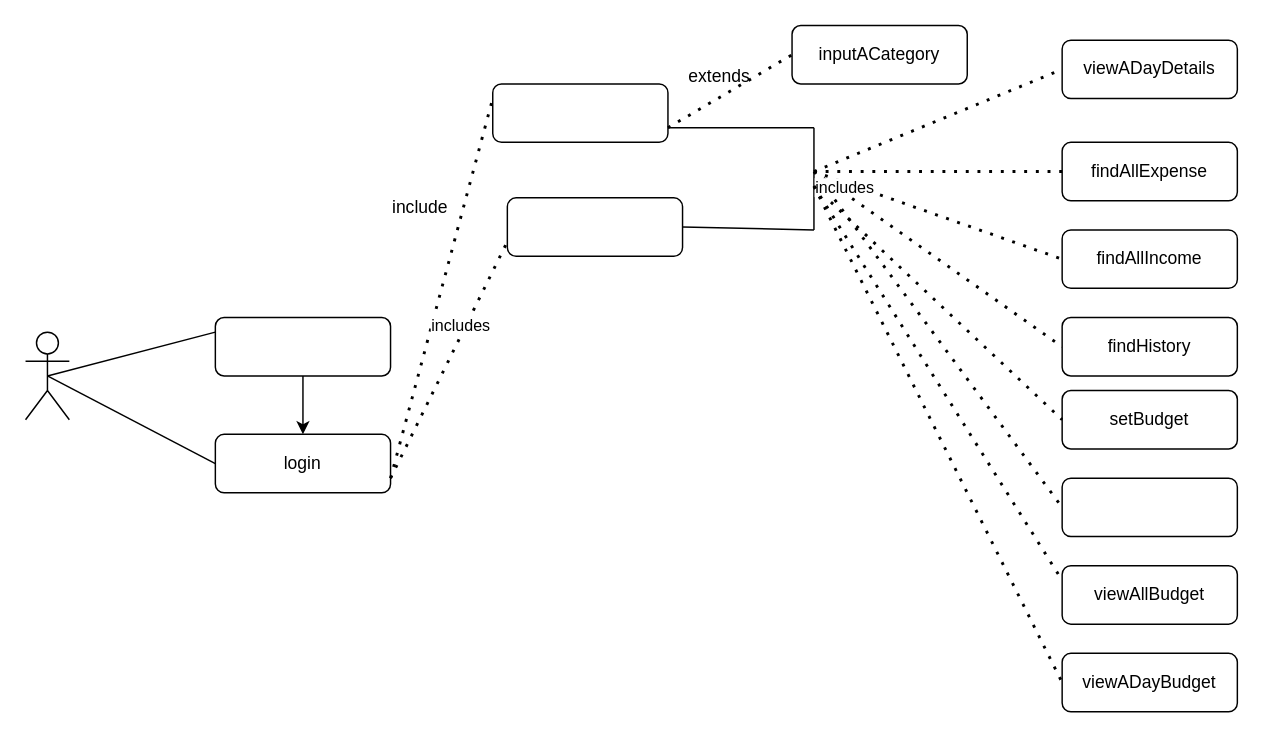
Image size: 1263x737. Some labels were removed from this diagram. The box of each missing label's shape, as (x1, y1, x2, y2) in pixels:
Actor: (24, 331, 69, 420)
addExpense: (506, 196, 683, 256)
addIncome: (491, 82, 668, 142)
endBudget: (1061, 477, 1237, 537)
register: (214, 316, 391, 376)
